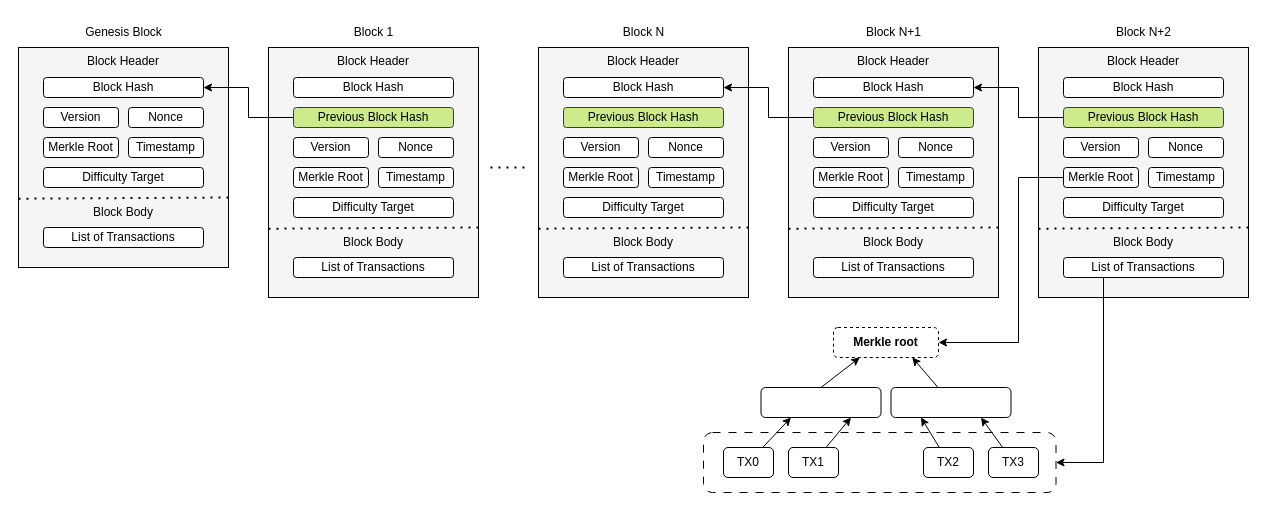
Image size: 1267x510. Some labels were removed from this diagram. Each missing label, with the box of its shape:
Hash (TX0, TX1): (760, 386, 881, 418)
Hash (TX2, TX3): (890, 386, 1011, 418)
